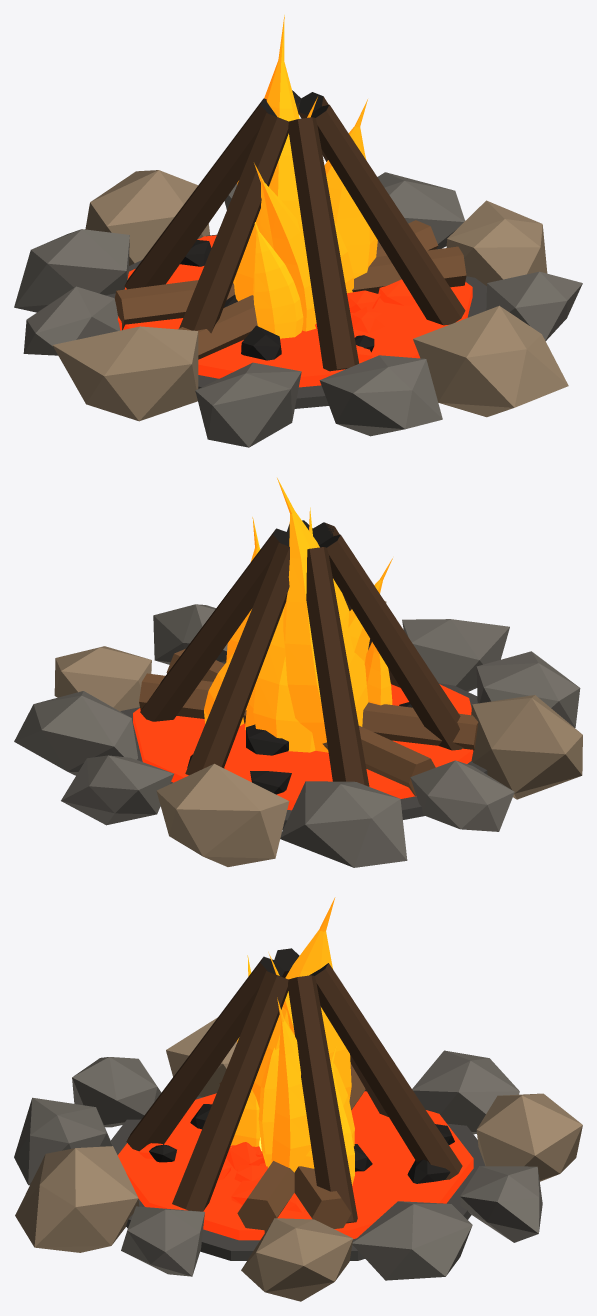
The model's file is WH_Campfire.glb.
The picture shows the model from 3 angles, top to bottom: view 1: azimuth 30°, elevation 25°; view 2: azimuth 150°, elevation 25°; view 3: azimuth 270°, elevation 25°; orthographic projection. The views are drawn at different scales.
Visible parts, largest first — view 1: WH_Campfire, Flame_2, Flame_0, Flame_1; view 2: WH_Campfire, Flame_0, Flame_2, Flame_1; view 3: WH_Campfire, Flame_0, Flame_1, Flame_2.
Part boxes in pixels (x1=…): WH_Campfire: x1=14, y1=90, x2=582, y2=447; Flame_2: x1=253, y1=163, x2=316, y2=338; Flame_0: x1=233, y1=15, x2=354, y2=301; Flame_1: x1=324, y1=99, x2=377, y2=278; WH_Campfire: x1=14, y1=520, x2=582, y2=867; Flame_0: x1=245, y1=478, x2=368, y2=752; Flame_2: x1=348, y1=558, x2=392, y2=705; Flame_1: x1=204, y1=517, x2=260, y2=725; WH_Campfire: x1=14, y1=948, x2=582, y2=1301; Flame_0: x1=252, y1=897, x2=354, y2=1167; Flame_1: x1=271, y1=997, x2=354, y2=1185; Flame_2: x1=230, y1=955, x2=260, y2=1147.
Bounding box in the file's own units: 1.54 × 0.9513 × 1.53.
